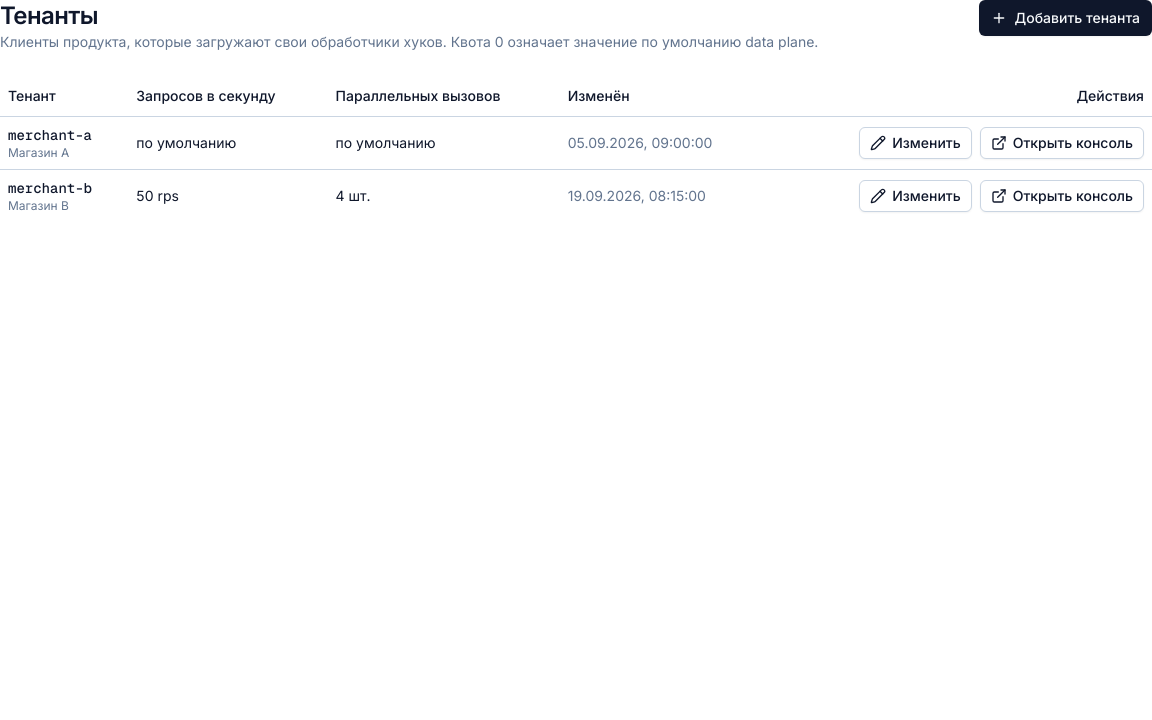
OperatorTenantsPage › creates a tenant
Click the button "Добавить тенанта" at (1065, 18), box [978,0,1151,36]
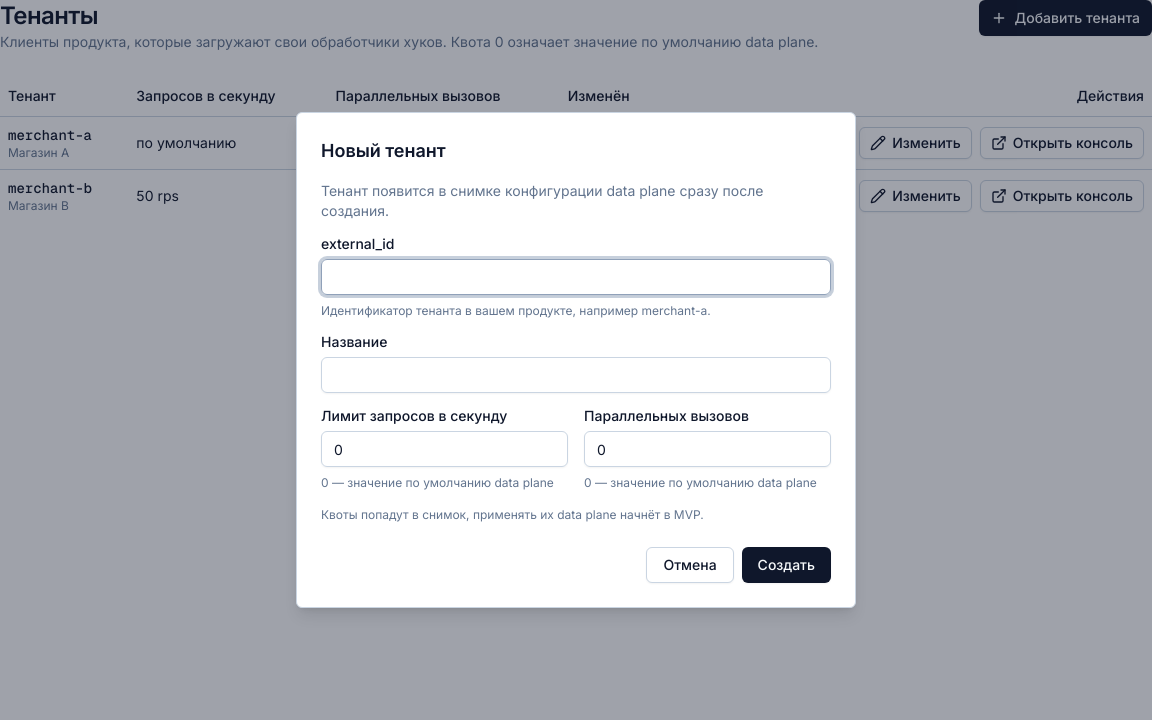
Type "merchant-c" into the field labelled "external_id" at (576, 277), box [321,259,831,295]
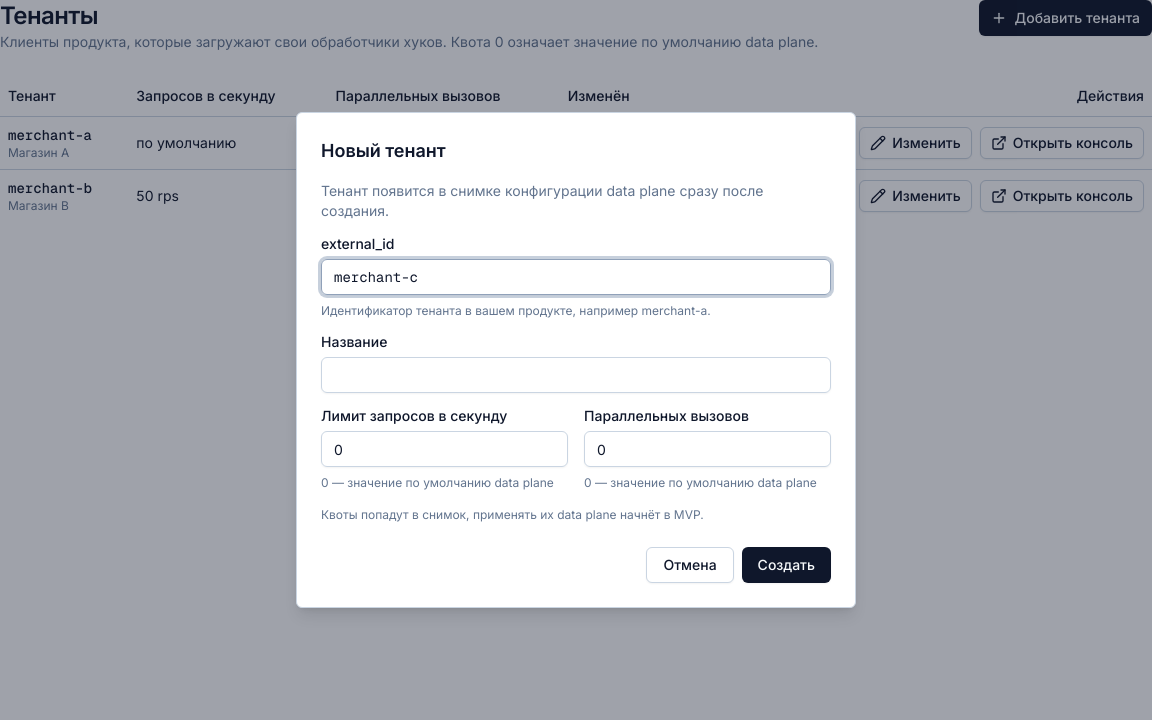
Type "Магазин C" into the field labelled "Название" at (576, 375), box [321,357,831,393]
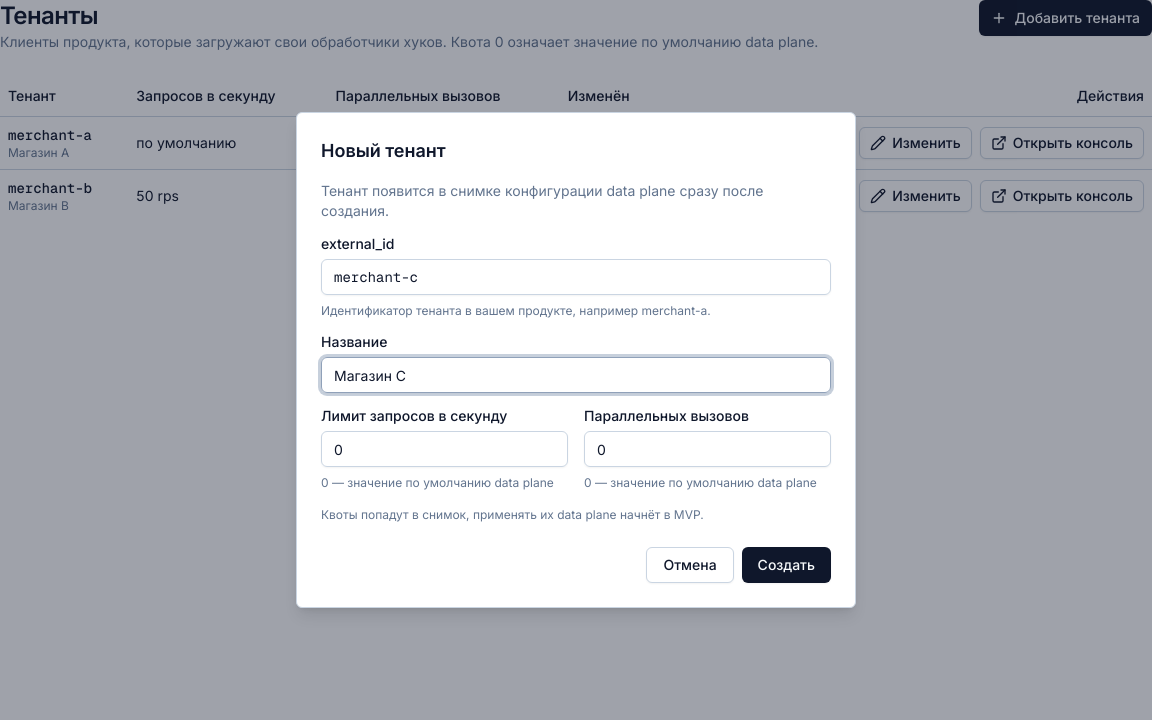
Replace the text in the number field labelled "Параллельных вызовов" with "8" at (708, 449), box [584,431,831,467]
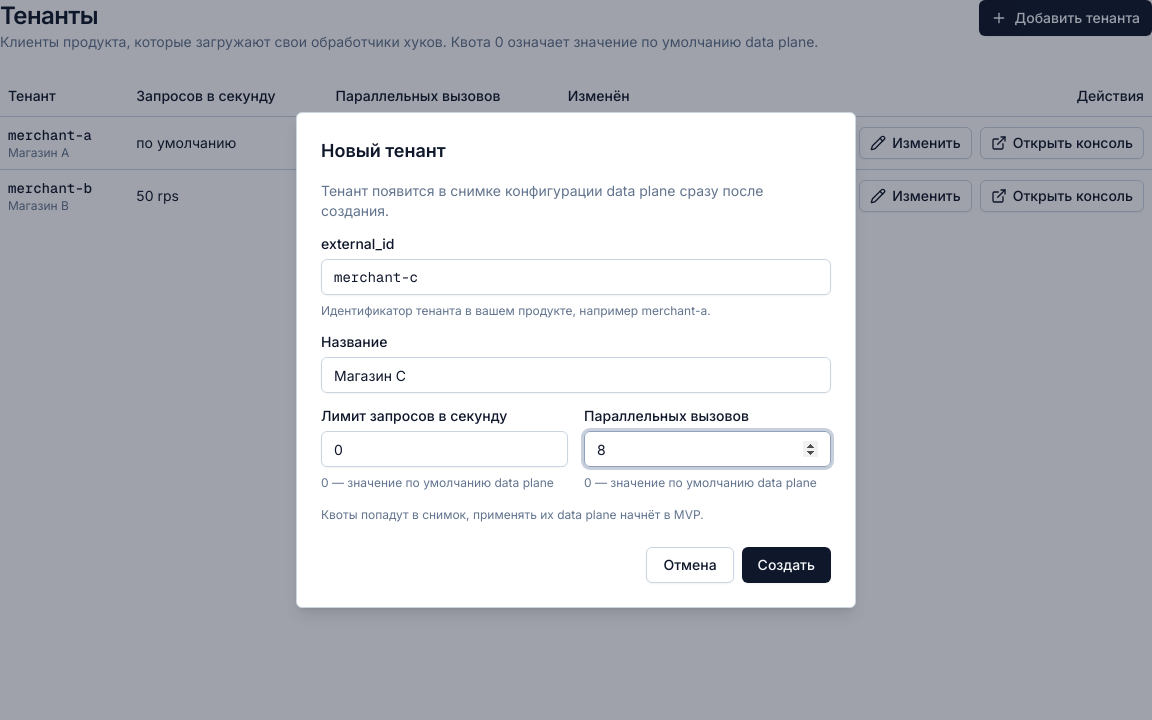
Click the button "Создать" at (786, 565), box [742,547,831,583]
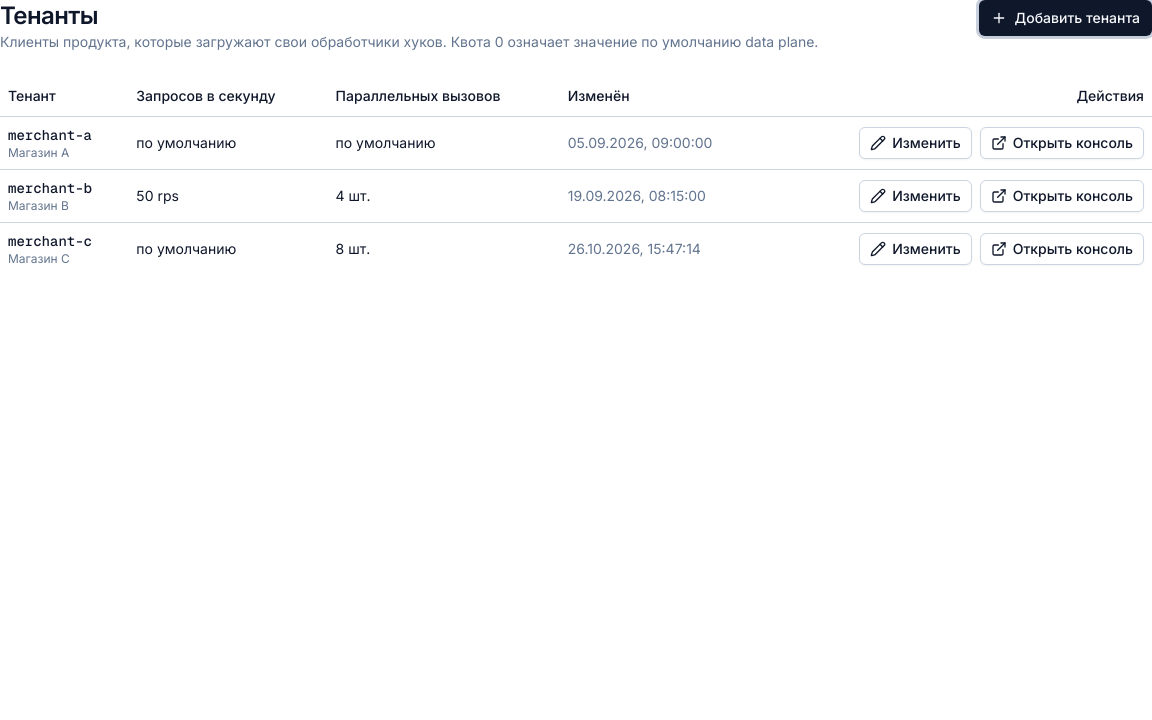
expect the dialog is gone: met
expect the text "merchant-c" is shown: met, box [8,232,92,250]
expect the text "8 шт." is shown: met, box [328,222,560,274]
